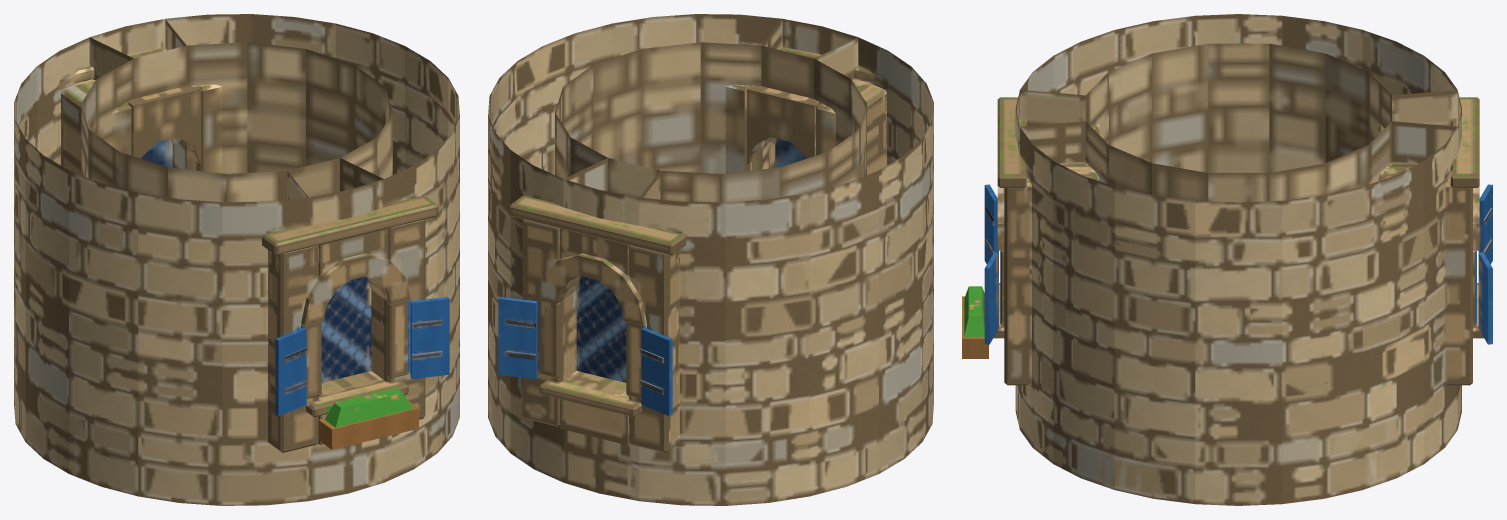
Rendered from Kit_Tower_RingWindow.fbx.
The picture shows the model from 3 angles, left to right: view 1: azimuth 30°, elevation 25°; view 2: azimuth 150°, elevation 25°; view 3: azimuth 270°, elevation 25°; orthographic projection.
Parts seen in each view (by area): view 1: Kit_Tower_RingWindow_LOD0; view 2: Kit_Tower_RingWindow_LOD0; view 3: Kit_Tower_RingWindow_LOD0.
Boxes of the visible parts, x1,y1,x2,y2 form: Kit_Tower_RingWindow_LOD0: (14, 14, 459, 505); Kit_Tower_RingWindow_LOD0: (488, 14, 933, 505); Kit_Tower_RingWindow_LOD0: (962, 14, 1492, 505).
Size of what is drawn, in the model's own units: 4 by 3 by 4.76.
Materials: 1 (1 with a texture image).
